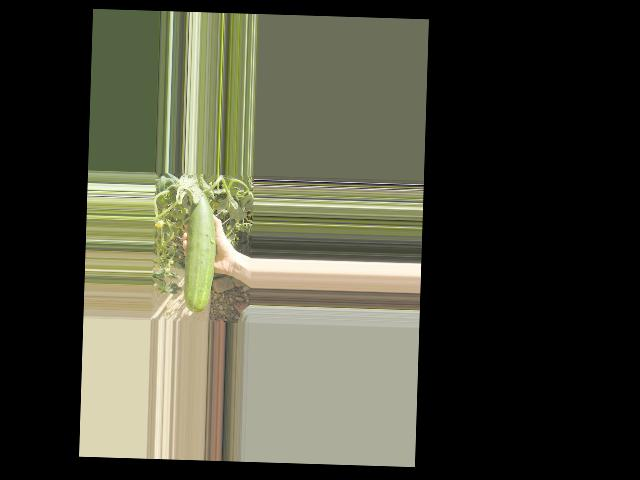cucumber: (183, 190, 217, 313)
